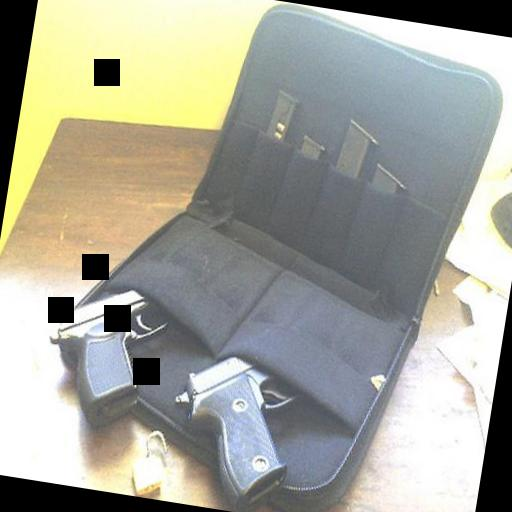Handgun: (158, 324, 314, 506), (36, 255, 178, 439)
